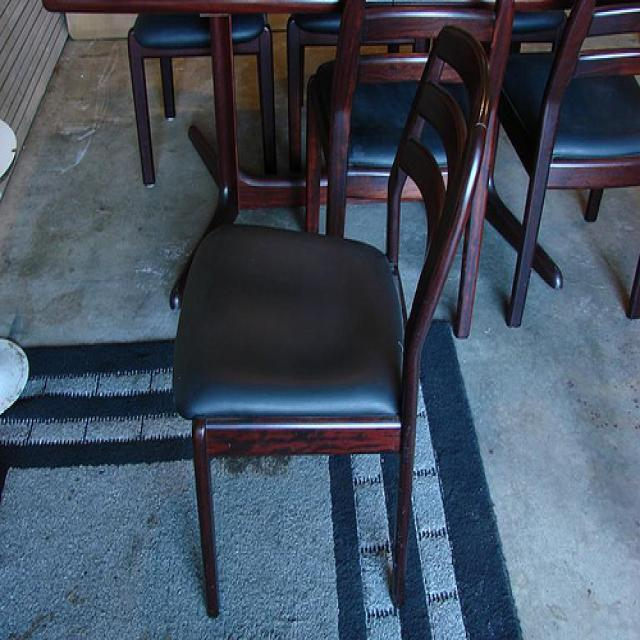chair: (172, 30, 490, 614), (288, 0, 516, 355), (497, 0, 639, 327)
